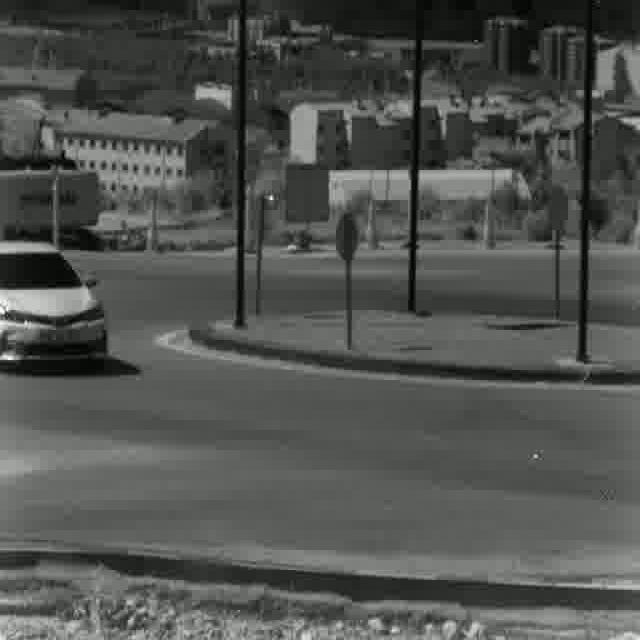Car: (0, 241, 108, 374)
